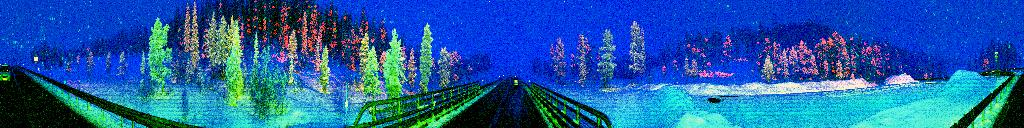pole: (343, 80, 349, 128)
